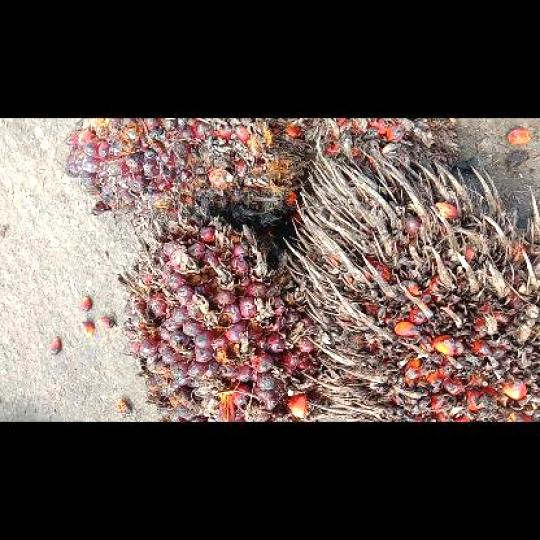masak: (119, 216, 330, 420), (66, 117, 305, 233)
terlalu masak: (284, 149, 539, 420), (283, 118, 458, 173)
